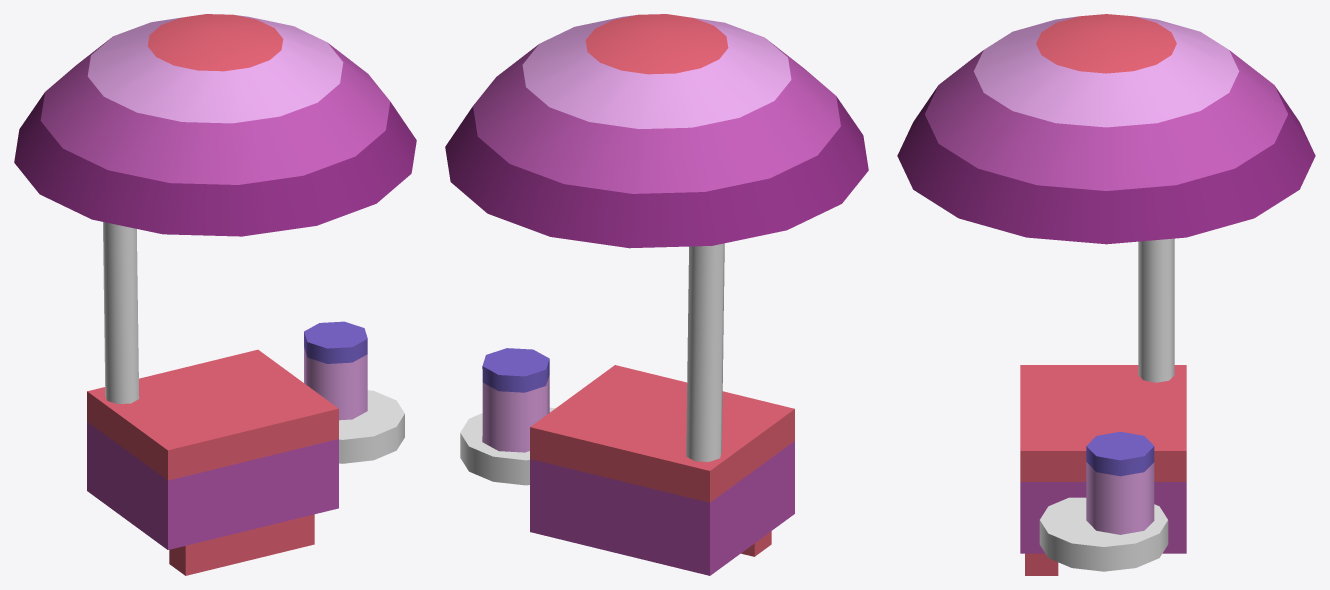
Rendered from candyshop01_s02.FBX.
The picture shows the model from 3 angles, left to right: view 1: azimuth 30°, elevation 25°; view 2: azimuth 150°, elevation 25°; view 3: azimuth 270°, elevation 25°; orthographic projection. The views are drawn at different scales.
Parts seen in each view (by area): view 1: candyshop01_s02; view 2: candyshop01_s02; view 3: candyshop01_s02.
Boxes of the visible parts, x1,y1,x2,y2 form: candyshop01_s02: (14,14,416,575); candyshop01_s02: (445,14,868,575); candyshop01_s02: (897,14,1315,575).
Size of the model in its own units: 281 by 277 by 377.
Materials: 1 (1 with a texture image).
